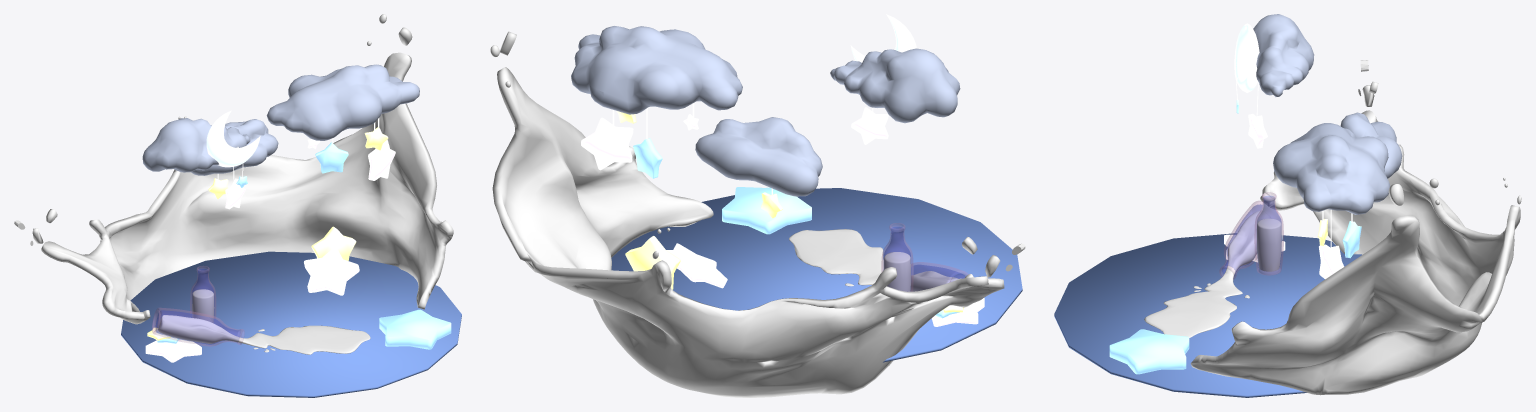
The model's file is wrc.glb.
3 renders of one model, left to right at view 1: azimuth 30°, elevation 25°; view 2: azimuth 150°, elevation 25°; view 3: azimuth 270°, elevation 25°, orthographic. The views are drawn at different scales.
Parts seen in each view (by area): view 1: back cream thing.001, Circle, Mball.011, creamv2, outerbottle, star2.004, innerbottle, star1.002, moon, outerbottle.001, star1.001, star2.003 (+5 smaller); view 2: back cream thing.001, Circle, Mball.011, creamv2, star2.004, star3.003, outerbottle.001, star1.002, innerbottle.001, star2.003, outerbottle, innerbottle (+5 smaller); view 3: back cream thing.001, Circle, Mball.011, creamv2, star2.004, outerbottle.001, outerbottle, innerbottle.001, moon, innerbottle, cream, star3.003 (+2 smaller).
Part boxes in pixels (bbox=[...]): back cream thing.001: bbox=[41, 52, 453, 324]; Circle: bbox=[121, 251, 461, 397]; Mball.011: bbox=[142, 64, 419, 175]; creamv2: bbox=[158, 315, 370, 354]; outerbottle: bbox=[152, 308, 244, 346]; star2.004: bbox=[379, 309, 451, 349]; innerbottle: bbox=[156, 310, 239, 344]; star1.002: bbox=[304, 247, 359, 295]; moon: bbox=[206, 110, 260, 167]; outerbottle.001: bbox=[190, 266, 215, 318]; star1.001: bbox=[145, 339, 201, 362]; star2.003: bbox=[311, 226, 356, 260]; back cream thing.001: bbox=[492, 67, 1004, 397]; Circle: bbox=[611, 188, 1022, 362]; Mball.011: bbox=[571, 26, 960, 196]; creamv2: bbox=[789, 229, 957, 291]; star2.004: bbox=[722, 187, 811, 234]; star3.003: bbox=[581, 117, 633, 170]; outerbottle.001: bbox=[881, 223, 913, 291]; star1.002: bbox=[666, 243, 727, 288]; innerbottle.001: bbox=[884, 227, 910, 291]; star2.003: bbox=[625, 236, 680, 289]; outerbottle: bbox=[911, 262, 968, 290]; innerbottle: bbox=[911, 265, 965, 290]; back cream thing.001: bbox=[1190, 110, 1520, 395]; Circle: bbox=[1054, 233, 1361, 397]; Mball.011: bbox=[1253, 14, 1402, 214]; creamv2: bbox=[1144, 210, 1271, 337]; star2.004: bbox=[1109, 329, 1189, 374]; outerbottle.001: bbox=[1254, 192, 1283, 275]; outerbottle: bbox=[1219, 201, 1277, 279]; innerbottle.001: bbox=[1257, 196, 1281, 271]; moon: bbox=[1234, 23, 1259, 92]; innerbottle: bbox=[1222, 204, 1262, 275]; cream: bbox=[1257, 218, 1281, 271]; star3.003: bbox=[1319, 244, 1344, 279].
Size of the model in its own units: 1.38 by 0.8406 by 1.21.
